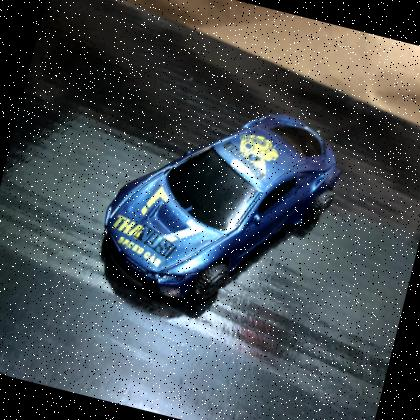Car: (100, 114, 340, 299)
